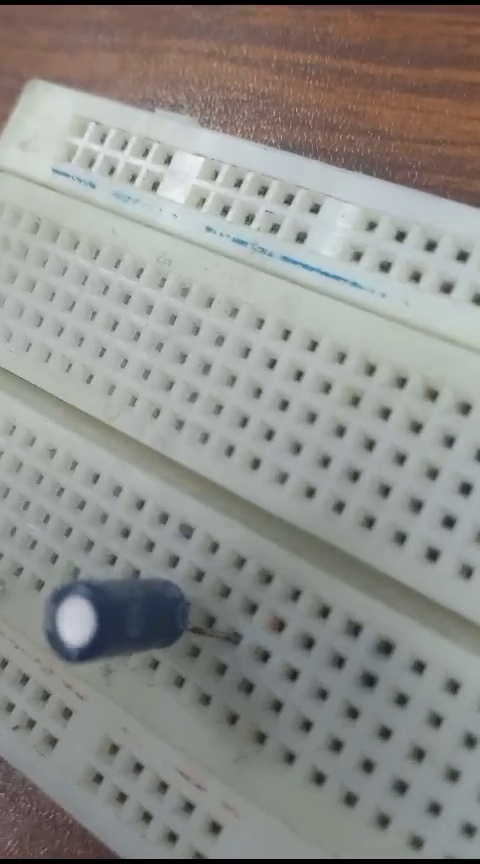capacitor: (45, 563, 230, 687)
